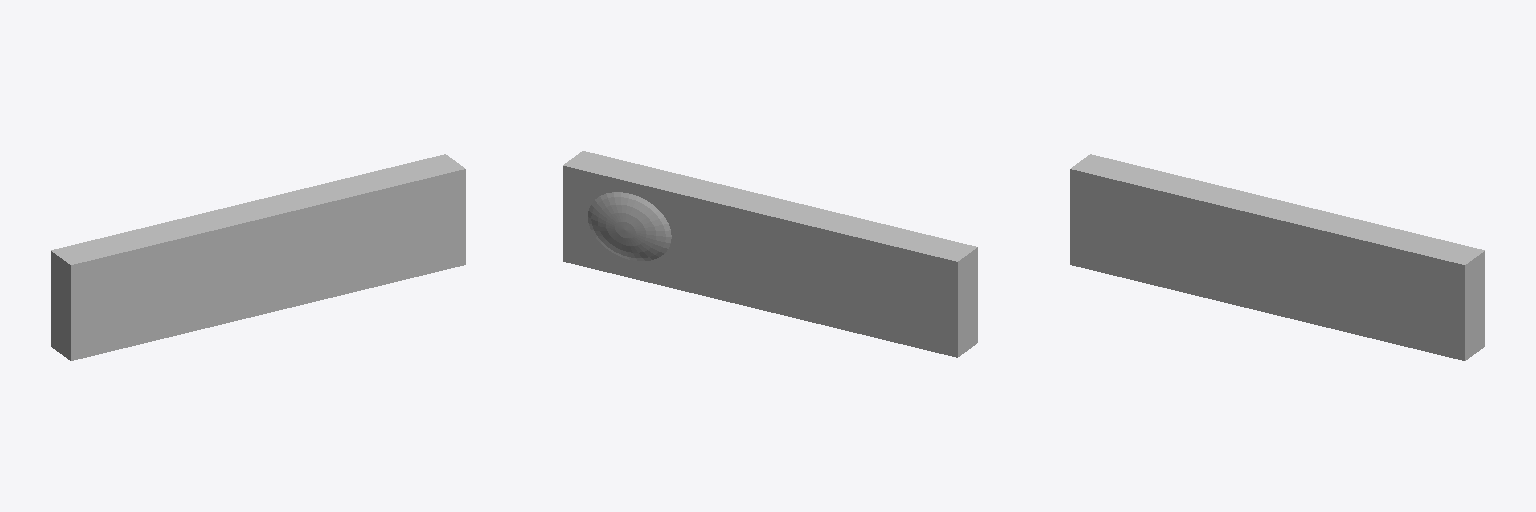
File: bar_rotate_side.obj
3 renders of one model, left to right at view 1: azimuth 30°, elevation 25°; view 2: azimuth 150°, elevation 25°; view 3: azimuth 330°, elevation 25°, orthographic.
Visible parts, largest first — view 1: Cube.001; view 2: Cube.001, Sphere; view 3: Cube.001.
Boxes of the visible parts, box(x1,y1,x2,y2) form: Cube.001: box(51, 154, 465, 360); Cube.001: box(563, 151, 977, 357); Sphere: box(588, 192, 671, 260); Cube.001: box(1070, 154, 1484, 360).
Size of the model in its own units: 5.76 by 1.34 by 0.6295.